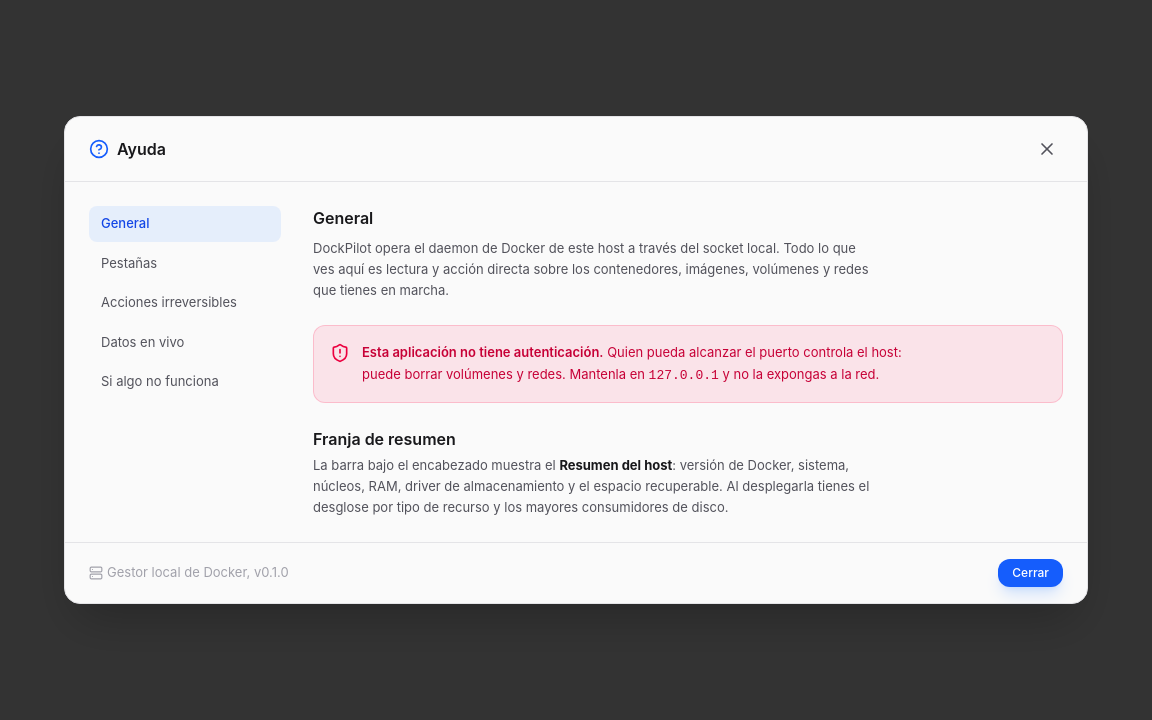
Test: HelpModal › explica que el detalle del host es una foto, no un histórico
Click the button "Pestañas".
click(185, 263)  # box 89,246 -> 281,281
(page scrolled)
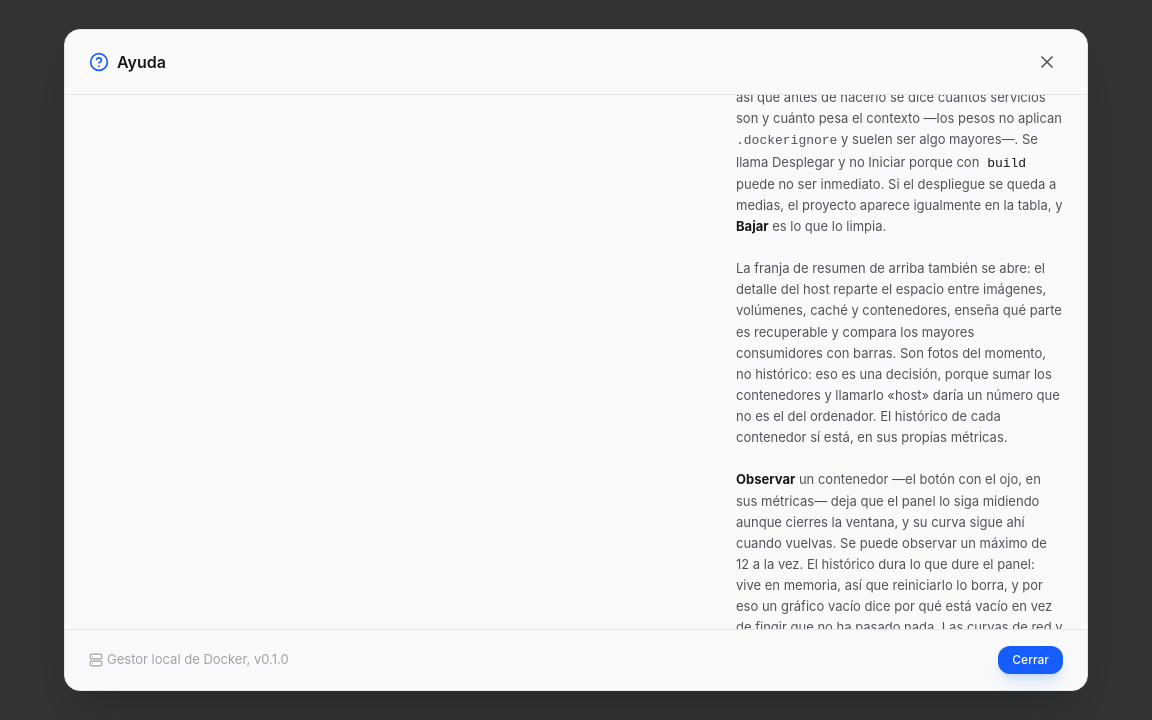
Now the text "fotos del momento" is shown, box 736,260 -> 1062,445
